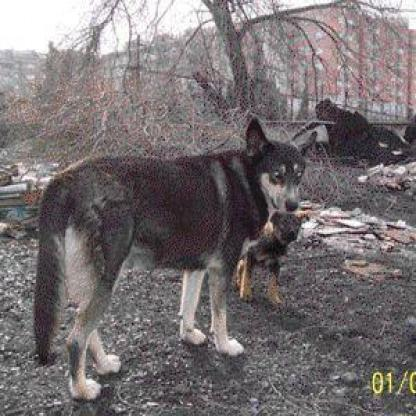Eskimo_dog: (33, 115, 315, 398)
